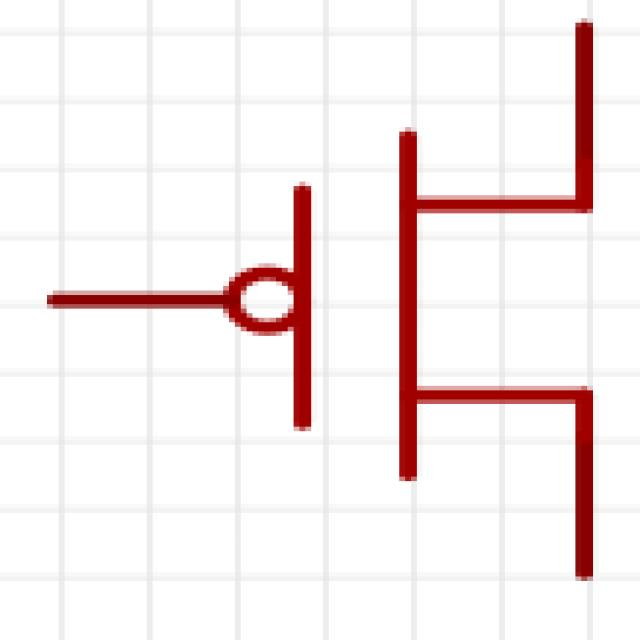pmos: (44, 44, 640, 571)
